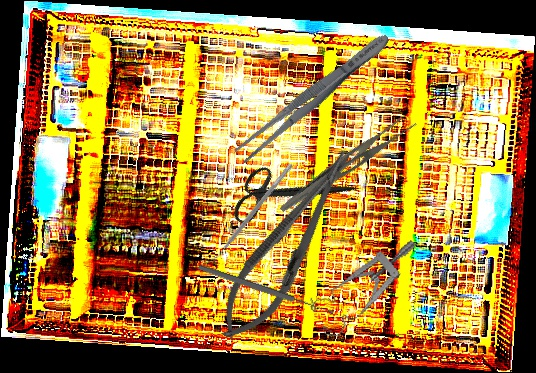Dressing Forceps: (231, 27, 396, 167), (278, 106, 419, 227)
Iris Scissors: (219, 128, 357, 259)
Needle Holder: (205, 139, 370, 353)
Spatula Surgical: (208, 160, 294, 264)
Speculum: (299, 238, 436, 342)
Surgical Spoon: (197, 263, 335, 317)
